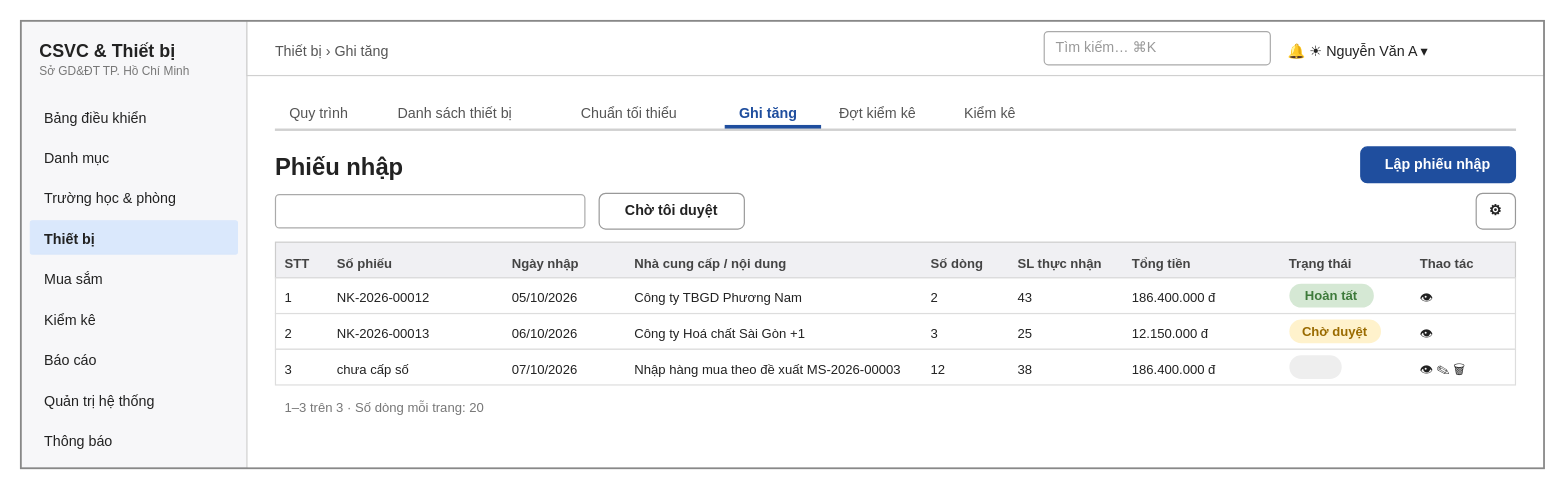
Image size: 1566x490. Some labels were removed from this diagram. The shapes that lost their labels are listed below. From the top down, each one's box as (x1, y1, x2, y2) in pixels, then its label:
(274, 193, 585, 228): Tìm nhanh…
(1289, 355, 1341, 378): Nháp
